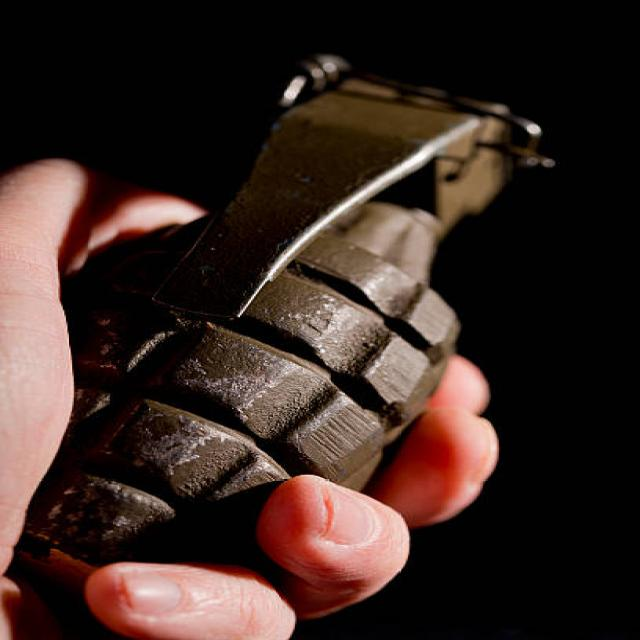grenade: (29, 54, 570, 592)
